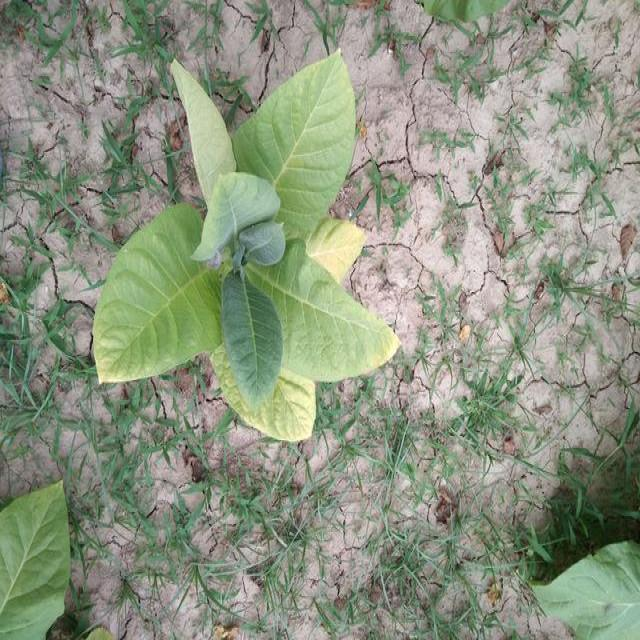crop: (85, 47, 406, 449)
